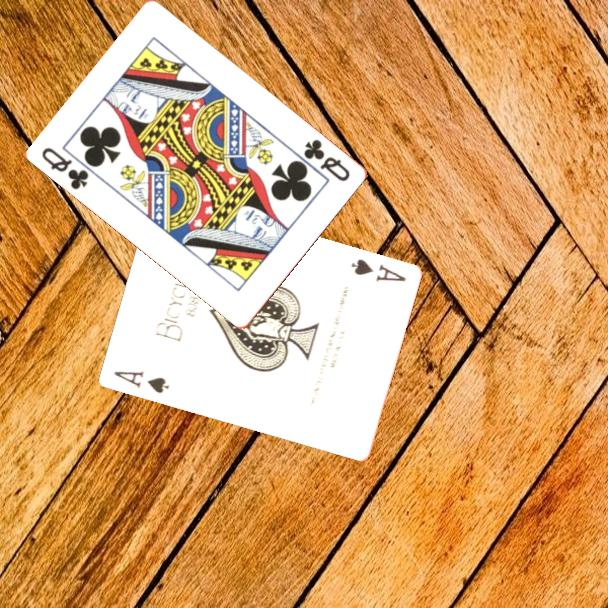c12: (300, 136, 354, 185), (38, 144, 92, 193)
s01: (110, 367, 171, 397), (347, 256, 408, 285)
